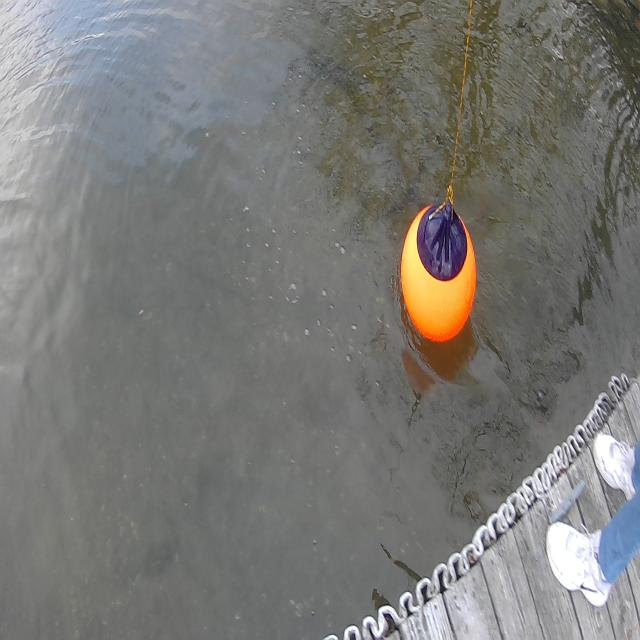Buoy: (394, 173, 484, 362)
